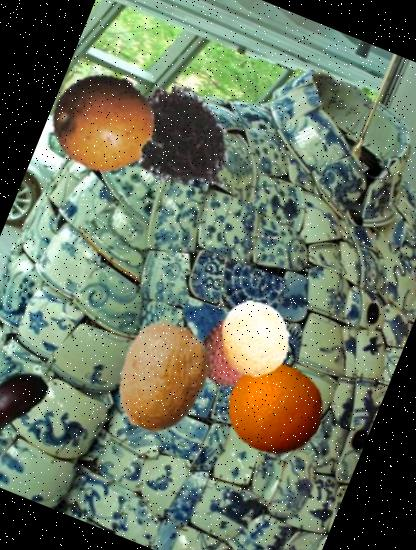Cantaloupe: (206, 288, 306, 388)
Eggplant: (0, 342, 67, 467)
Granadilla: (32, 49, 186, 203)
Kiwi: (92, 304, 235, 448)
Lychee: (184, 305, 280, 401)
Orange: (214, 346, 338, 470)
Rambutan: (103, 61, 261, 219)
